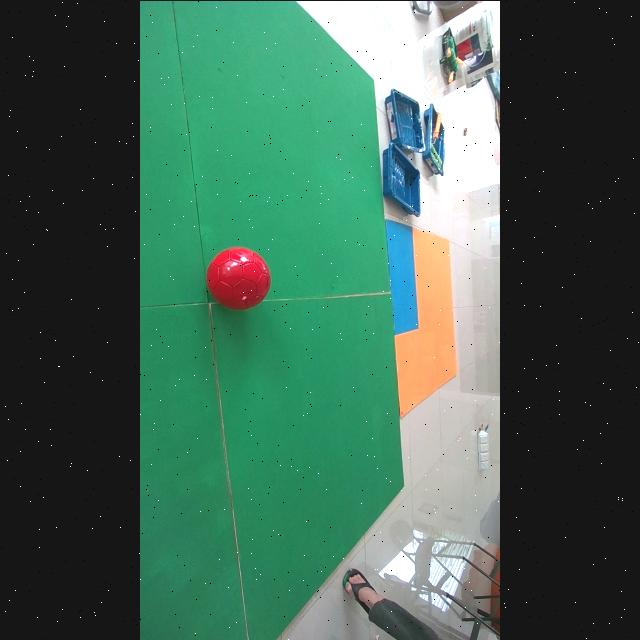R: (206, 246, 271, 309)
